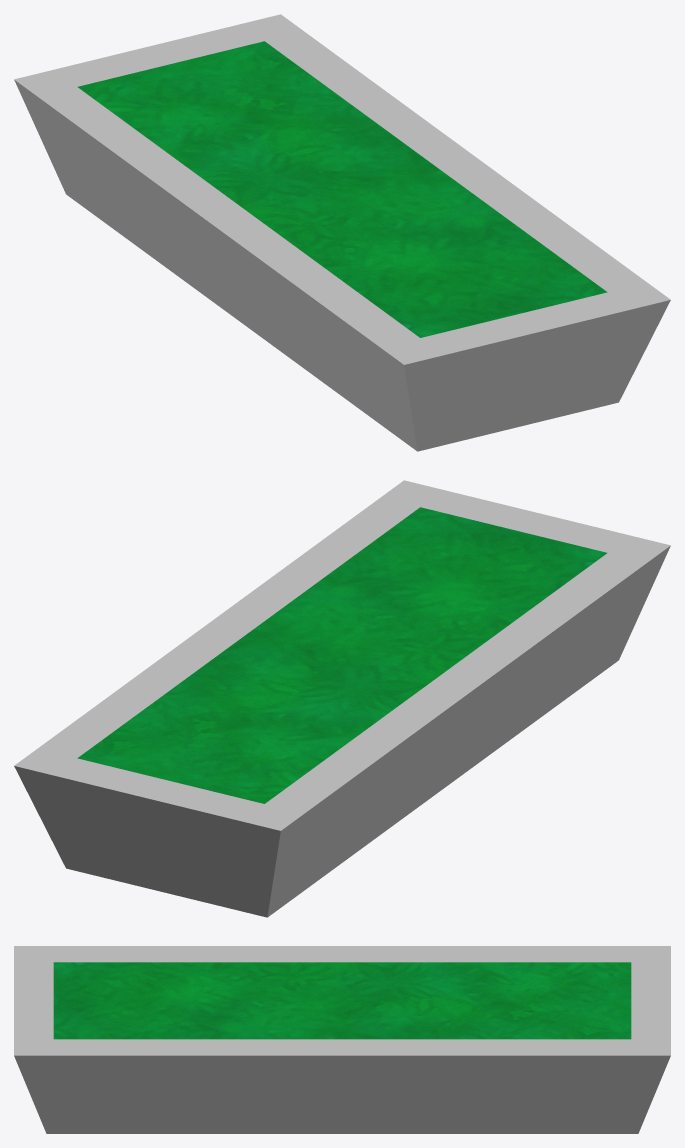
The model's file is Plant01_b02.FBX.
The picture shows the model from 3 angles, top to bottom: view 1: azimuth 30°, elevation 25°; view 2: azimuth 150°, elevation 25°; view 3: azimuth 270°, elevation 25°; orthographic projection. The views are drawn at different scales.
Parts seen in each view (by area): view 1: Plant01_b02; view 2: Plant01_b02; view 3: Plant01_b02.
Part boxes in pixels (x1,y1,x2,y2): Plant01_b02: (14,14,670,451); Plant01_b02: (14,480,670,917); Plant01_b02: (14,946,670,1133).
Bounding box in the file's own units: 121 × 47.09 × 306.
